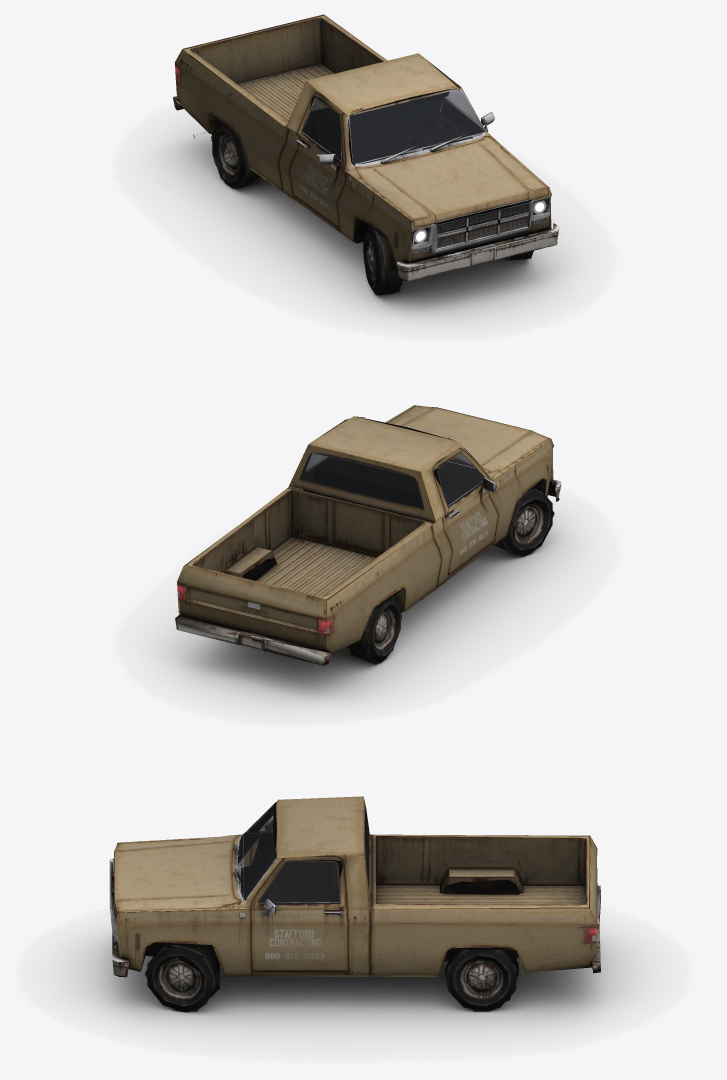
Rendered from lowres_scene.gltf.
3 views of the same model, one above another, from view 1: azimuth 30°, elevation 25°; view 2: azimuth 150°, elevation 25°; view 3: azimuth 270°, elevation 25° (orthographic). The views are drawn at different scales.
Visible parts, largest first — view 1: Object001_Material #33_0, Plane001, Object002_Material #34_0; view 2: Object001_Material #33_0, Plane001, Object002_Material #34_0; view 3: Object001_Material #33_0, Plane001, Object002_Material #34_0.
Part boxes in pixels (box(x1,y1,x2,y2)): Object001_Material #33_0: box(173, 14, 559, 295); Plane001: box(168, 128, 562, 317); Object002_Material #34_0: box(303, 89, 484, 164); Object001_Material #33_0: box(175, 405, 561, 665); Plane001: box(171, 523, 564, 701); Object002_Material #34_0: box(299, 452, 483, 509); Object001_Material #33_0: box(109, 796, 600, 1012); Plane001: box(82, 935, 624, 1026); Object002_Material #34_0: box(237, 803, 369, 905).
Bounding box in the file's own units: 185 × 70.07 × 297.
